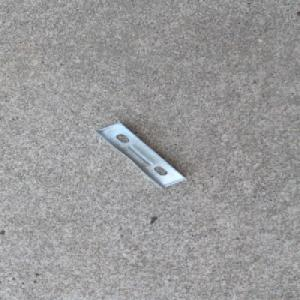ClampPart: (92, 120, 188, 189)
